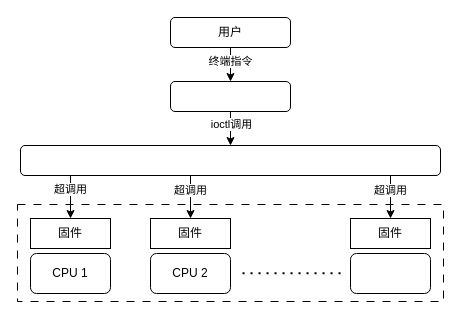
The diagram is 461 pixels wide and 319 high, and some of its shapes have lost their labels. Each missing label, with the box of its shape:
CPU n: (350, 252, 430, 294)
内核驱动: (20, 144, 440, 176)
用户态工具: (170, 80, 290, 112)
